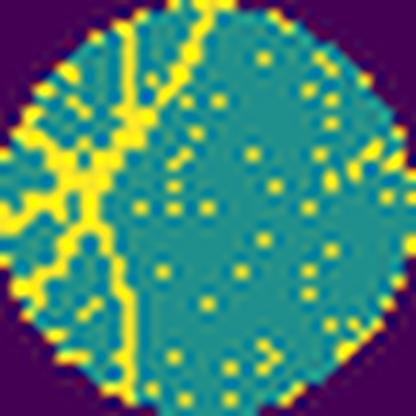Scratch: (0, 0, 233, 409)
